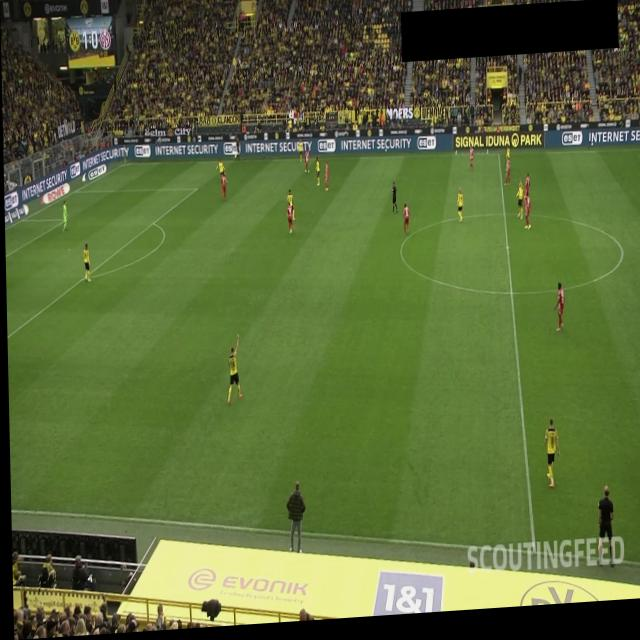goalkeeper: (61, 200, 69, 234)
player: (541, 424, 558, 497), (224, 336, 241, 408), (553, 290, 563, 338), (81, 244, 90, 283), (285, 198, 293, 238), (515, 187, 523, 227), (522, 199, 530, 236), (455, 193, 463, 229), (401, 208, 409, 240), (285, 193, 294, 219), (313, 160, 320, 191), (503, 163, 510, 192), (220, 174, 227, 203), (215, 161, 225, 181), (303, 150, 309, 177), (323, 164, 328, 196), (523, 180, 529, 205), (468, 152, 474, 177), (297, 143, 303, 166)
referee: (594, 492, 614, 576), (390, 186, 397, 220), (233, 140, 240, 165)
